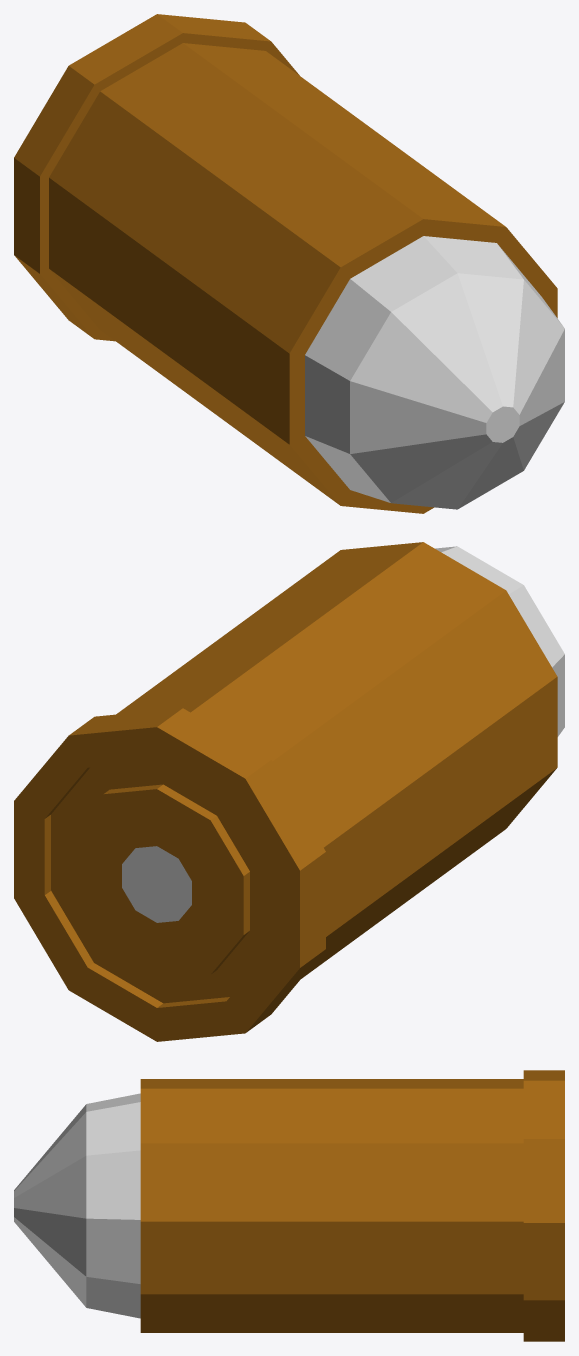
The model's file is BulletGun.fbx.
The picture shows the model from 3 angles, top to bottom: view 1: azimuth 30°, elevation 25°; view 2: azimuth 150°, elevation 25°; view 3: azimuth 270°, elevation 25°; orthographic projection. The views are drawn at different scales.
Parts seen in each view (by area): view 1: Asimov Pistol Bullet; view 2: Asimov Pistol Bullet; view 3: Asimov Pistol Bullet.
Part boxes in pixels (x1,y1,x2,y2): Asimov Pistol Bullet: [14, 14, 564, 513]; Asimov Pistol Bullet: [14, 542, 564, 1041]; Asimov Pistol Bullet: [14, 1070, 564, 1341].
Bounding box in the file's own units: 3.5 × 3.68 × 7.33.
